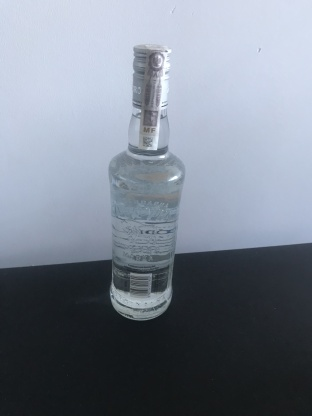nakretka: (129, 38, 173, 114)
